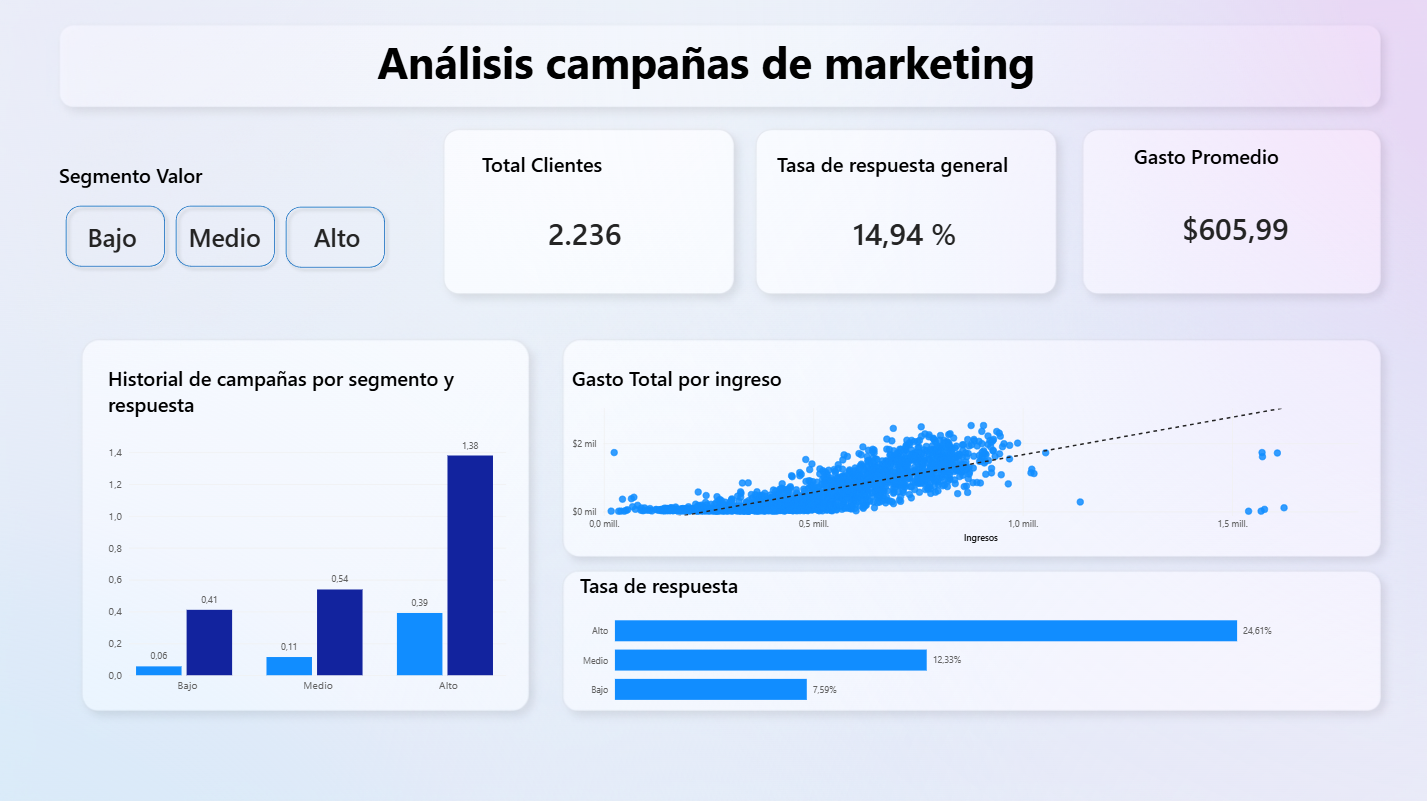

Layout of this report page (visuals, bound fields, positions):
{"tool":"powerbi","page":{"name":"Página 1","canvas":[1920,1080],"ordinal":0},"visuals":[{"type":"cardVisual","title":"Total Clientes","fields":{"Data":["CountNonNull(marketing_campaign_features.ID)"]},"box":[647.1,202.6,276.7,166.3],"z":0},{"type":"cardVisual","title":"Tasa de respuesta general","fields":{"Data":["Avg(marketing_campaign_features.Response)"]},"box":[1043.1,202.6,343.2,166.3],"z":1000},{"type":"cardVisual","title":"Gasto Promedio","fields":{"Data":["Avg(marketing_campaign_features.Gasto_Total)"]},"box":[1523.9,192,272.1,176.9],"z":2000},{"type":"clusteredBarChart","title":"Tasa de respuesta","fields":{"Category":["marketing_campaign_features.Segmento_Valor"],"Y":["Avg(marketing_campaign_features.Response)"]},"box":[766.5,755.9,1090,205.6],"z":3000},{"type":"scatterChart","title":"Gasto Total por ingreso","fields":{"X":["marketing_campaign_features.Income"],"Y":["Avg(marketing_campaign_features.Gasto_Total)"]},"box":[755.9,477.7,1100.6,264.6],"z":4000},{"type":"clusteredColumnChart","title":"Historial de campañas por segmento y respuesta","fields":{"Category":["marketing_campaign_features.Segmento_Valor"],"Series":["marketing_campaign_features.Response"],"Y":["Avg(marketing_campaign_features.Campañas_Aceptadas)"]},"box":[133,477.7,559.4,470.2],"z":5000},{"type":"textbox","box":[78.6,43.8,1738.6,114.9],"z":6000},{"type":"shape","box":[374.9,270.6,151.2,99.8],"z":7000},{"type":"shape","box":[226.8,269.1,151.2,99.8],"z":8000},{"type":"shape","box":[78.6,269.1,151.2,99.8],"z":9000},{"type":"advancedSlicerVisual","title":"Segmento Valor","fields":{"Values":["marketing_campaign_features.Segmento_Valor"]},"box":[78.6,217.7,447.5,151.2],"z":10000}]}

Visuals, with their boxes in screenshot pixels (x1, y1, x2, y2), scaled from the page's 1920x1080 canvas onto the 1427x801 screenshot:
"Total Clientes" cardVisual: 481, 150, 687, 274
"Tasa de respuesta general" cardVisual: 775, 150, 1030, 274
"Gasto Promedio" cardVisual: 1133, 142, 1335, 274
"Tasa de respuesta" clusteredBarChart: 570, 561, 1380, 713
"Gasto Total por ingreso" scatterChart: 562, 354, 1380, 551
"Historial de campañas por segmento y respuesta" clusteredColumnChart: 99, 354, 515, 703
textbox: 58, 32, 1351, 118
shape: 279, 201, 391, 275
shape: 169, 200, 281, 274
shape: 58, 200, 171, 274
"Segmento Valor" advancedSlicerVisual: 58, 161, 391, 274
